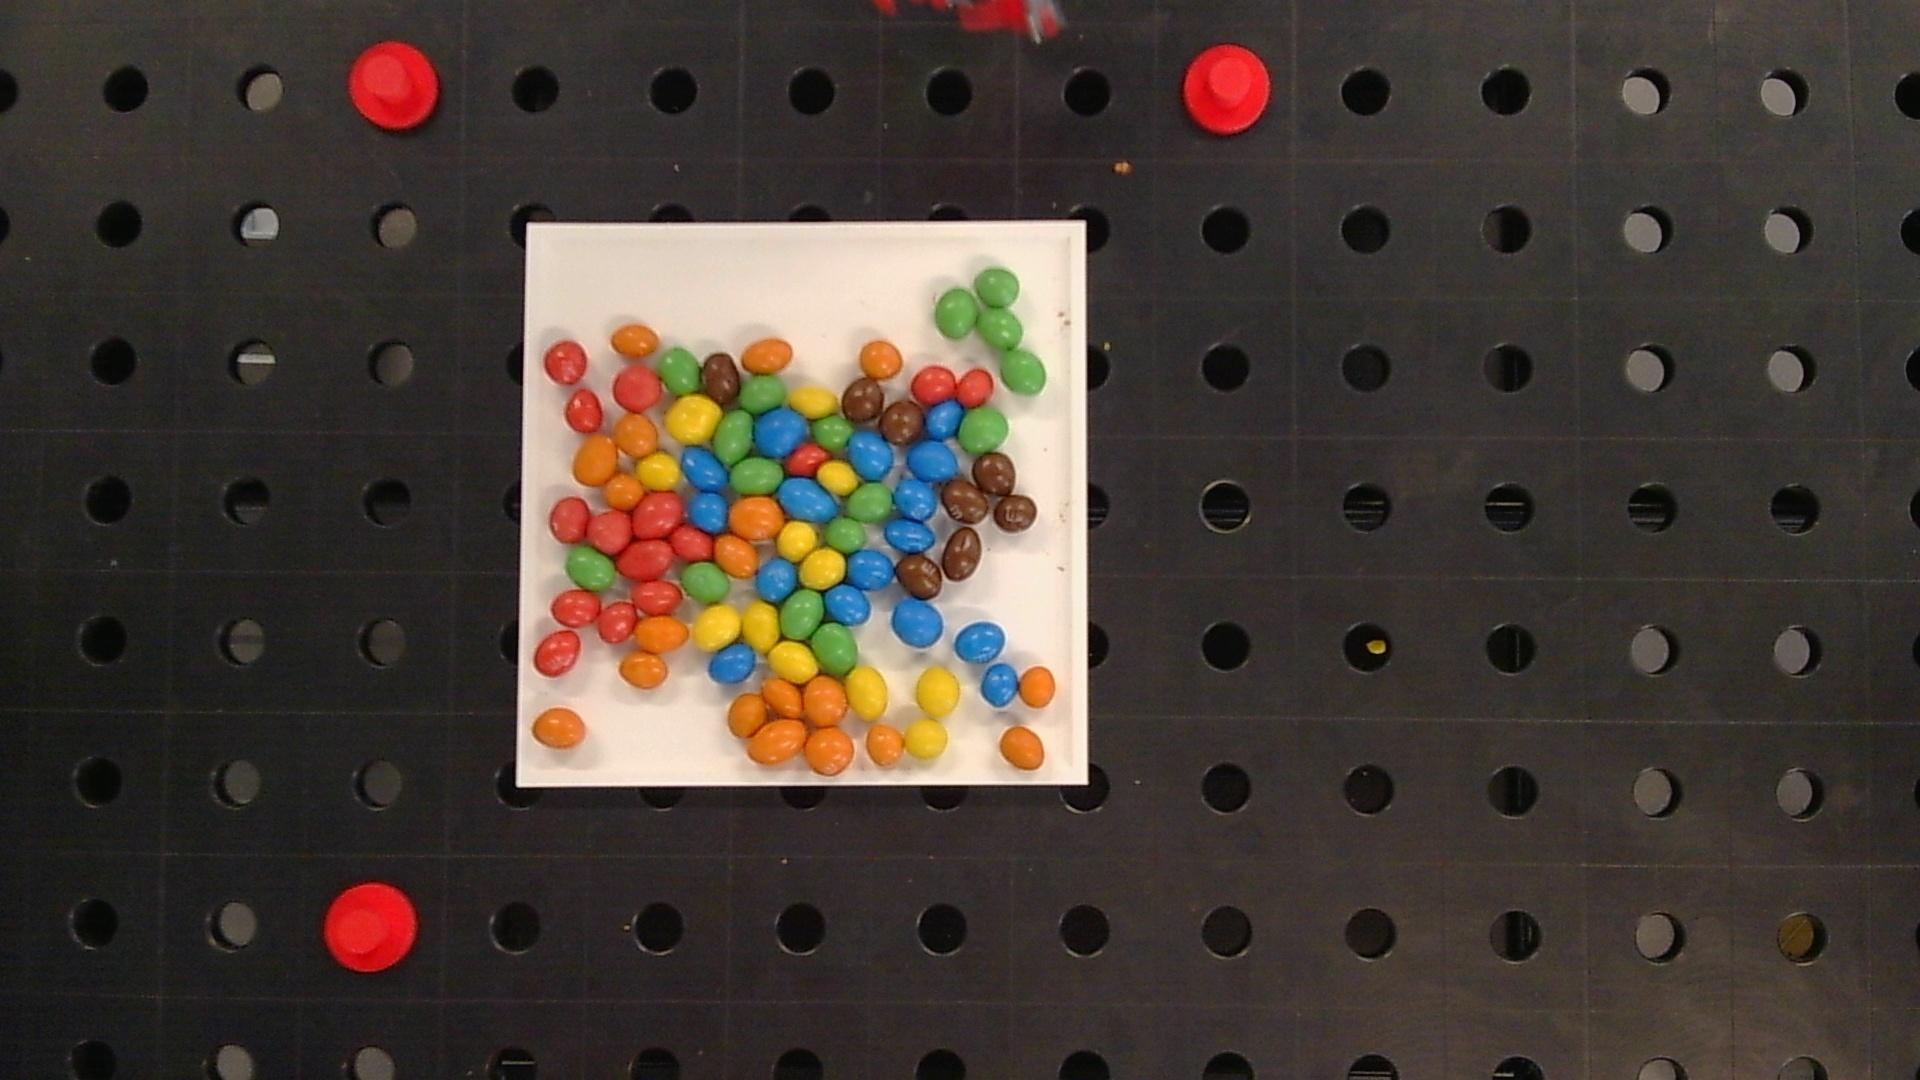blue: (885, 518, 942, 599), (754, 407, 810, 456), (779, 476, 839, 521), (891, 597, 944, 647), (955, 621, 1005, 663), (906, 440, 957, 481), (848, 433, 893, 479), (682, 447, 728, 491), (894, 477, 939, 521), (847, 550, 894, 591), (708, 644, 757, 683), (756, 558, 798, 601), (824, 585, 870, 625), (885, 520, 935, 553), (981, 665, 1019, 707), (687, 492, 728, 530), (926, 401, 964, 439)
brown: (942, 527, 981, 582), (942, 479, 989, 524), (897, 555, 942, 599), (702, 353, 738, 404), (881, 401, 923, 443), (841, 378, 884, 421), (973, 454, 1015, 496), (993, 495, 1036, 533)
green: (812, 624, 858, 673), (564, 547, 616, 589), (1000, 349, 1047, 394), (935, 289, 977, 339), (781, 591, 823, 638), (961, 410, 1009, 452), (682, 563, 731, 604), (713, 410, 752, 462), (658, 348, 702, 393), (731, 456, 783, 493), (978, 307, 1023, 349), (975, 268, 1019, 307), (848, 484, 894, 521), (740, 375, 785, 411), (811, 415, 853, 450), (824, 517, 866, 551)
orange: (748, 719, 806, 764), (804, 728, 855, 774), (731, 496, 783, 539), (531, 708, 587, 748), (574, 435, 617, 484), (804, 678, 847, 725), (1000, 727, 1044, 770), (634, 616, 688, 651), (715, 534, 758, 578), (615, 414, 657, 456), (620, 653, 669, 688), (742, 338, 793, 372), (858, 340, 903, 378), (865, 724, 905, 766), (728, 694, 766, 736), (611, 324, 658, 357), (1019, 666, 1056, 707), (762, 678, 802, 715), (605, 473, 644, 508)
red: (632, 493, 683, 537), (613, 367, 661, 410), (618, 541, 671, 579), (534, 632, 580, 675), (543, 340, 587, 384), (588, 510, 632, 553), (550, 497, 589, 542), (910, 365, 957, 402), (551, 591, 600, 625), (564, 389, 603, 433), (632, 580, 680, 613), (596, 603, 636, 642), (670, 526, 713, 559), (956, 368, 993, 405), (785, 444, 828, 475)
yellow: (666, 396, 720, 443), (847, 666, 887, 720), (915, 667, 960, 716), (692, 605, 740, 650), (770, 642, 818, 682), (800, 549, 845, 588), (741, 603, 778, 650), (903, 720, 947, 758), (637, 452, 680, 488), (778, 522, 818, 559), (789, 386, 837, 415), (818, 462, 858, 496)
